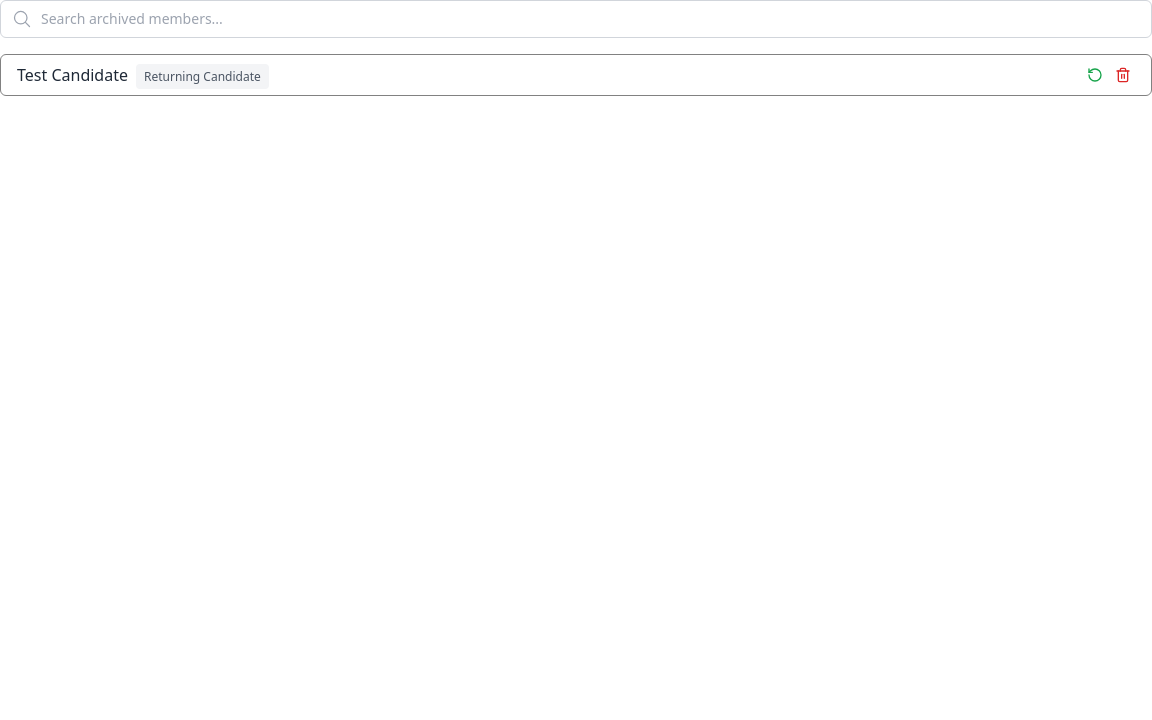
it: permanent deletion › deletes through the authenticated API and removes the row only on success
Click the button named "Permanently delete Test Candidate".
click(1123, 75)  # box [1111,63,1135,87]
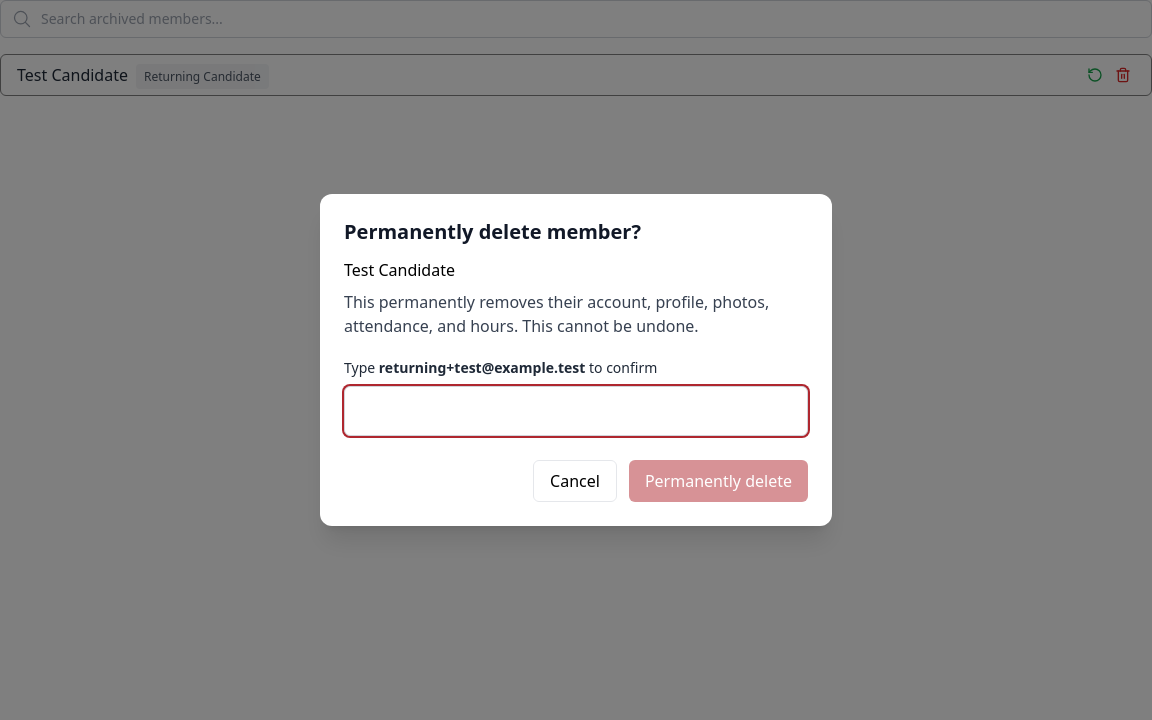
Type "returning+test@example.test" into the field labelled "Type returning+test@example.test to confirm".
click(576, 411); type("returning+test@example.test")  # box [344,386,808,436]
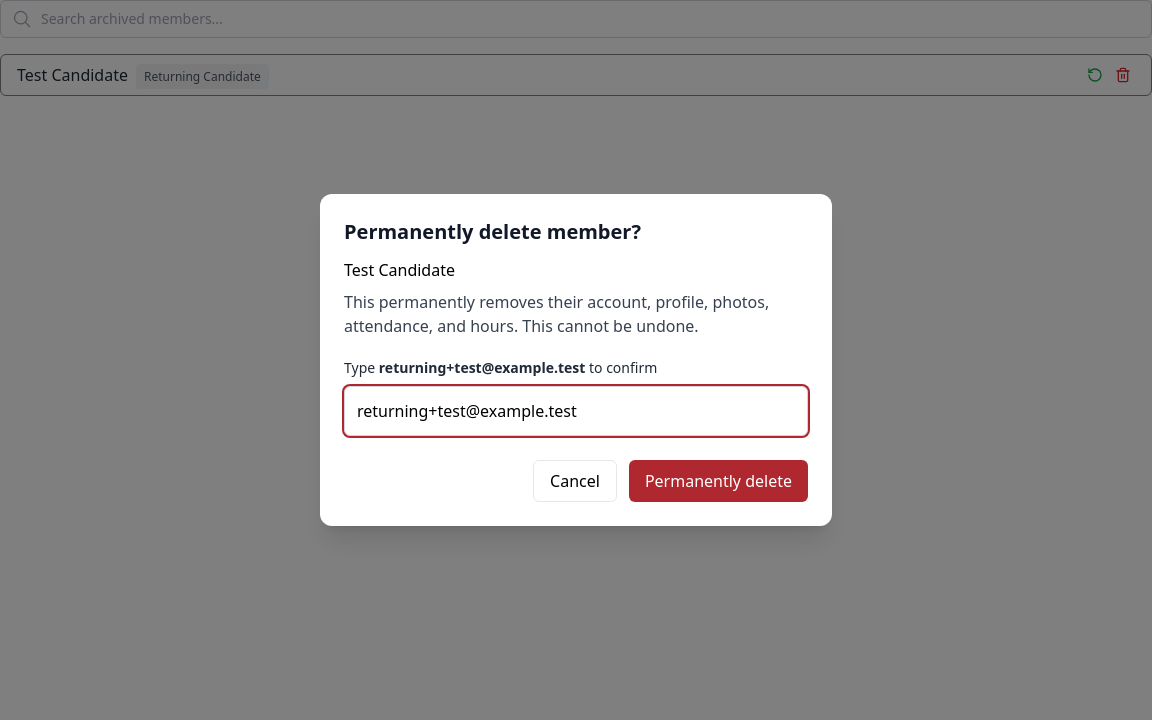
Click the button "Permanently delete".
click(718, 481)  # box [629,460,808,502]
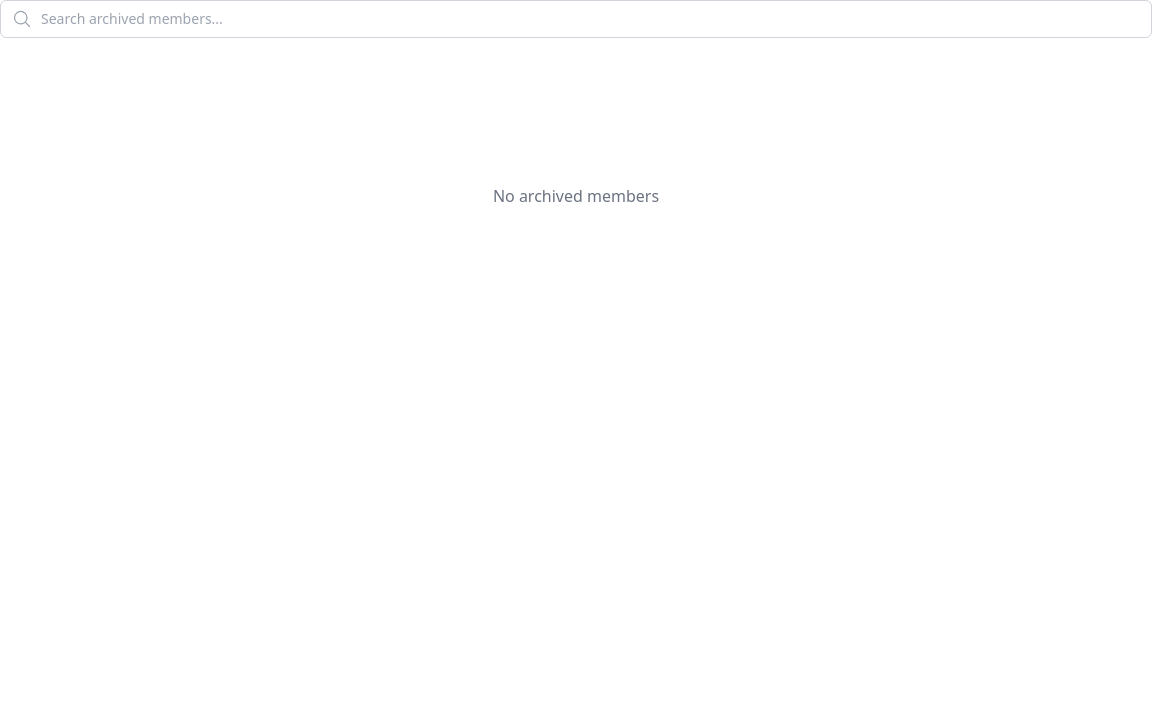
Check: the text "No archived members" is shown, box [493,184,659,208]
